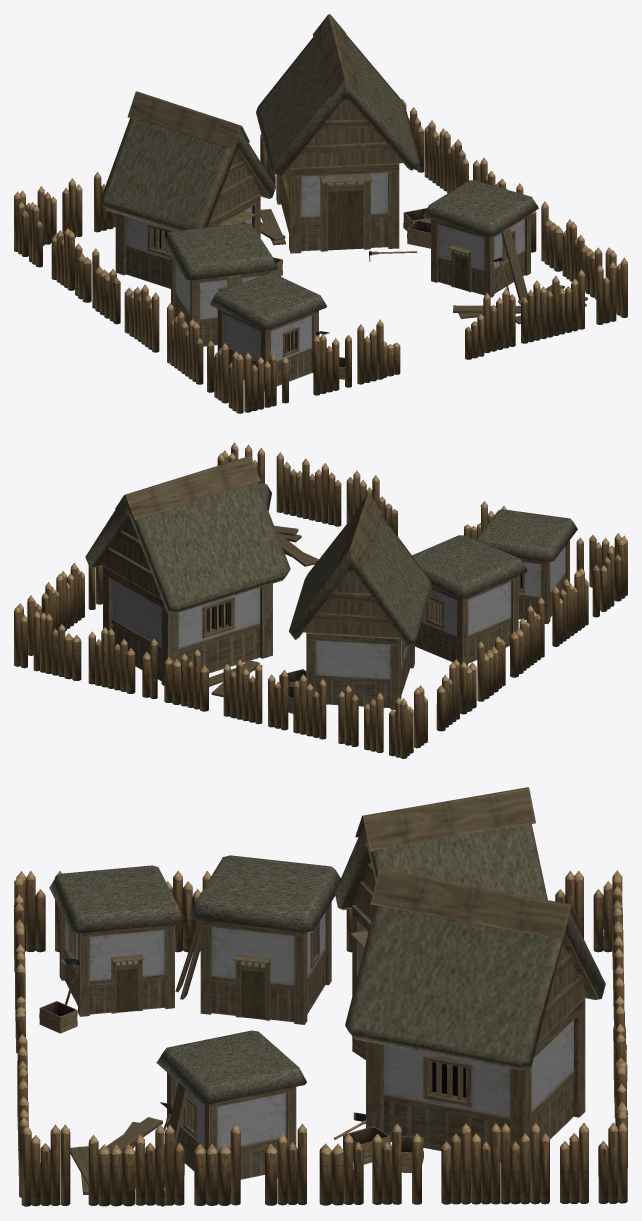
Rendered from sb_obj_outdoor010_Landmark_Povertyvillage.fbx.
3 renders of one model, top to bottom at view 1: azimuth 30°, elevation 25°; view 2: azimuth 150°, elevation 25°; view 3: azimuth 270°, elevation 25°, orthographic. The views are drawn at different scales.
Visible parts, largest first — view 1: sb_obj_outdoor010_Landmark01_Povertyvilage; view 2: sb_obj_outdoor010_Landmark01_Povertyvilage; view 3: sb_obj_outdoor010_Landmark01_Povertyvilage.
Part boxes in pixels (x1,y1,x2,y2): sb_obj_outdoor010_Landmark01_Povertyvilage: [14, 14, 627, 413]; sb_obj_outdoor010_Landmark01_Povertyvilage: [14, 442, 627, 758]; sb_obj_outdoor010_Landmark01_Povertyvilage: [14, 787, 627, 1206].
Size of the model in its own units: 2 by 0.9059 by 2.
